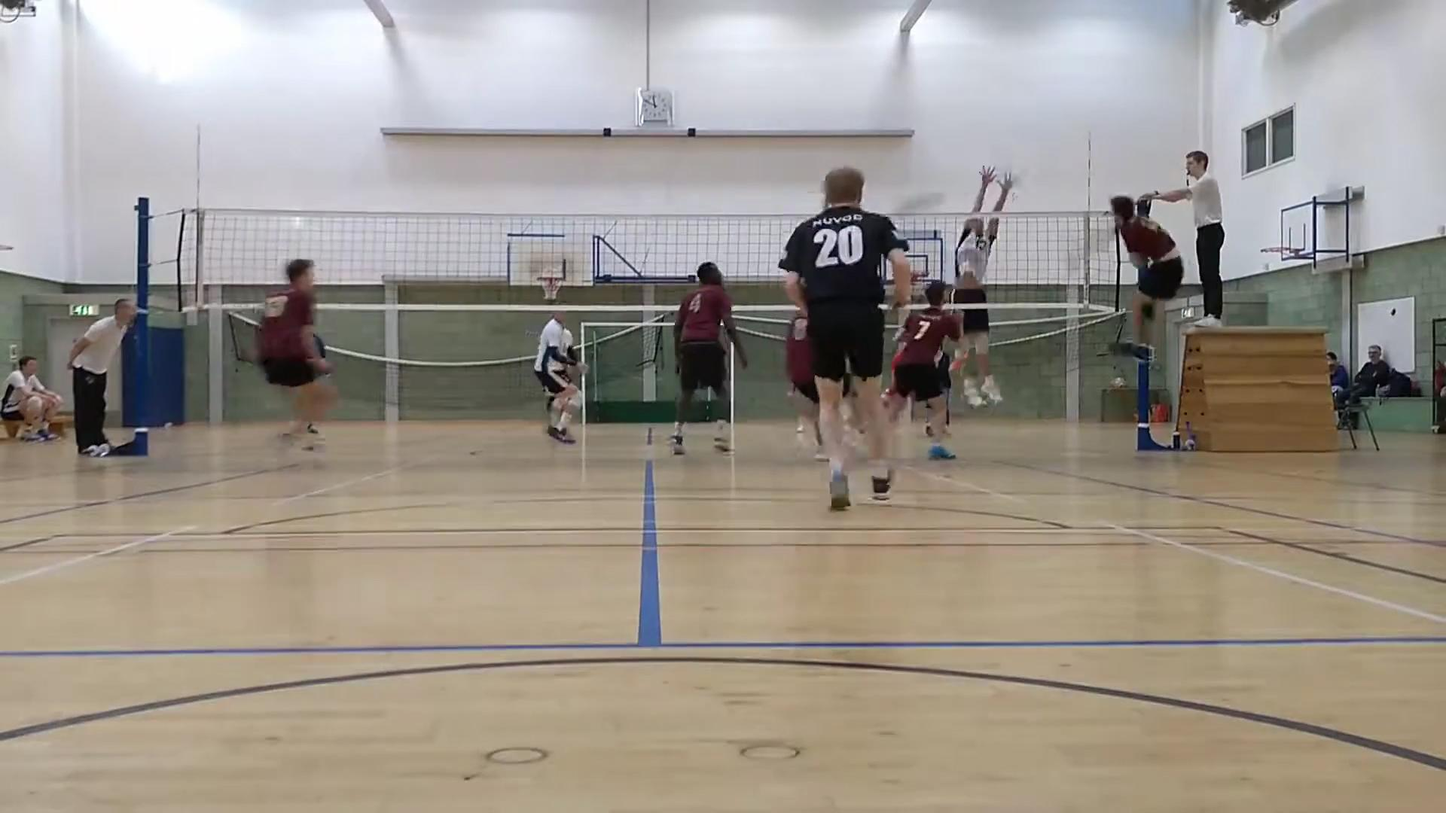attacco: (1076, 186, 1188, 354)
muro: (940, 160, 1018, 414)
